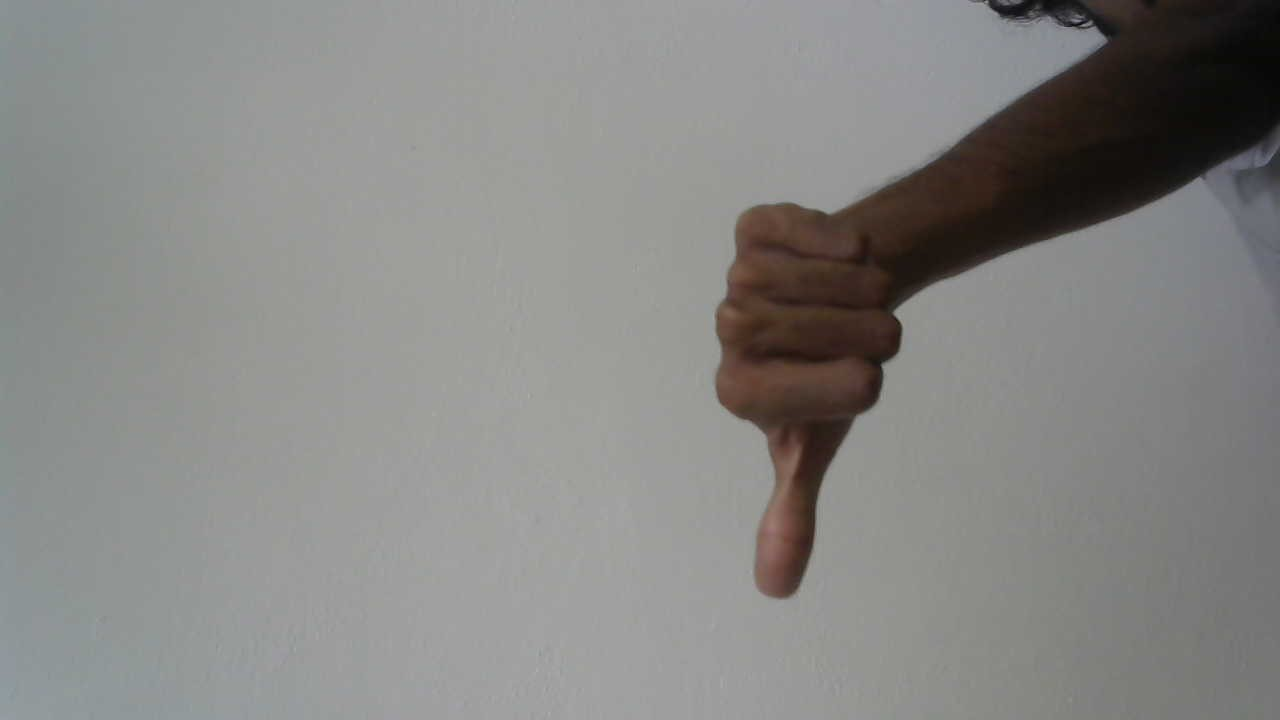thumbsdown: (686, 181, 915, 631)
